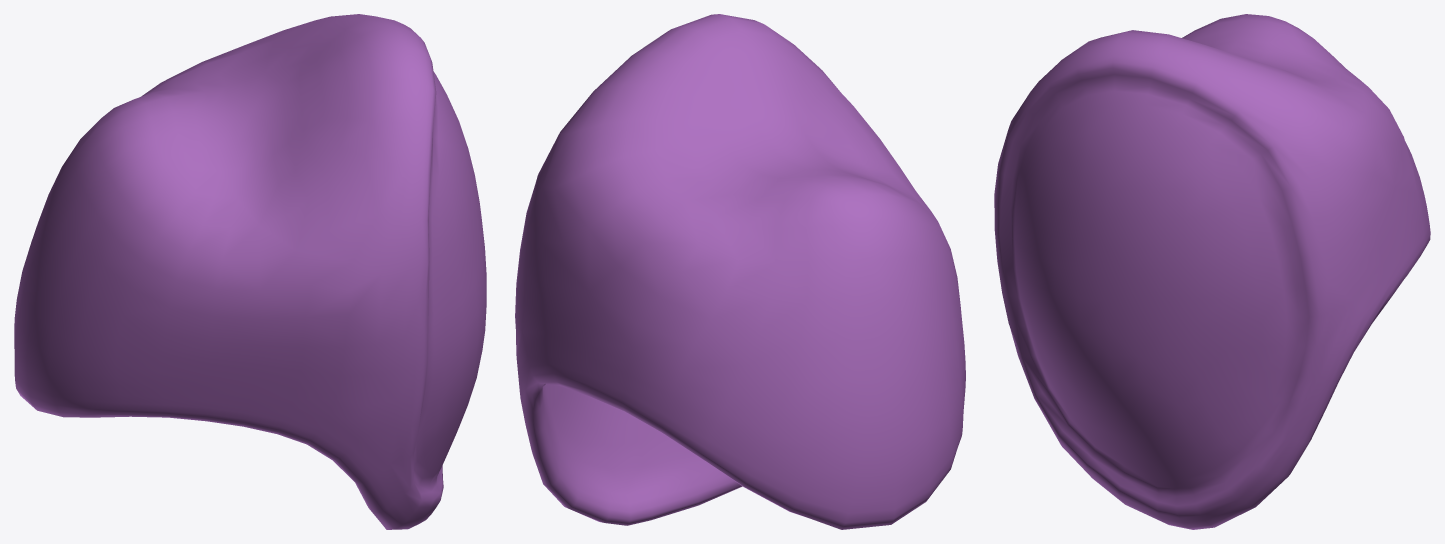
The model's file is BR4_Enamel_Prongs.001.glb.
The picture shows the model from 3 angles, left to right: view 1: azimuth 30°, elevation 25°; view 2: azimuth 150°, elevation 25°; view 3: azimuth 270°, elevation 25°; orthographic projection. The views are drawn at different scales.
Visible parts, largest first — view 1: BR4_Enamel_Prongs.001; view 2: BR4_Enamel_Prongs.001; view 3: BR4_Enamel_Prongs.001.
Part boxes in pixels (x1,y1,x2,y2): BR4_Enamel_Prongs.001: (14, 14, 486, 529); BR4_Enamel_Prongs.001: (515, 14, 965, 529); BR4_Enamel_Prongs.001: (994, 14, 1430, 529).
Size of the model in its own units: 0.8037 by 0.9585 by 0.8144.
